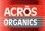AcrosOrganics: (3, 5, 39, 27)
